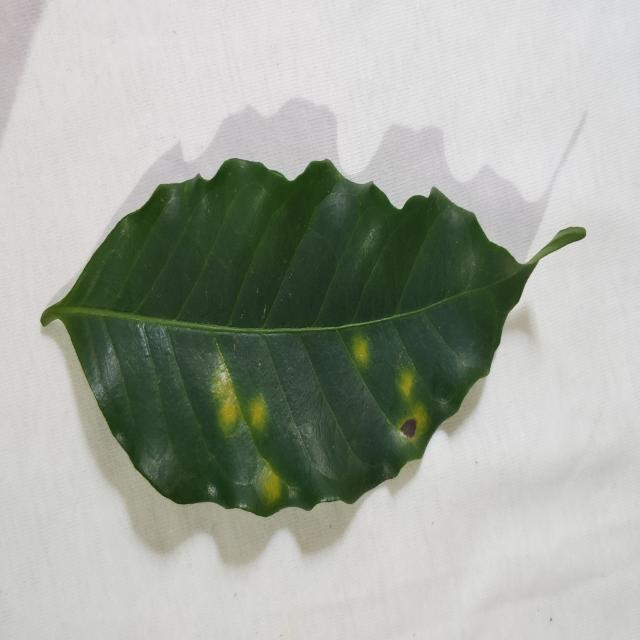Enfermedad-Roya: (40, 159, 586, 512)
